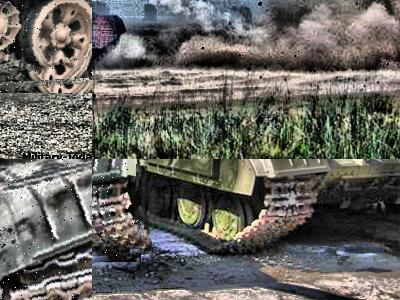tanks: (138, 160, 400, 254), (1, 160, 93, 300), (1, 1, 93, 79), (93, 160, 145, 258), (93, 14, 126, 65)
